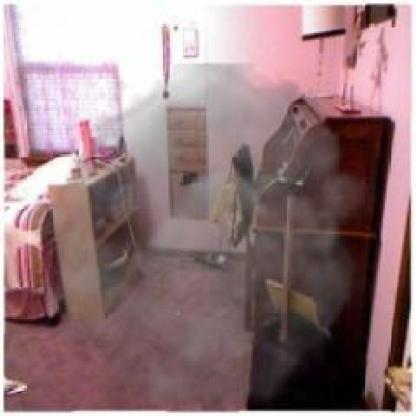Smoke: (23, 63, 383, 405)
